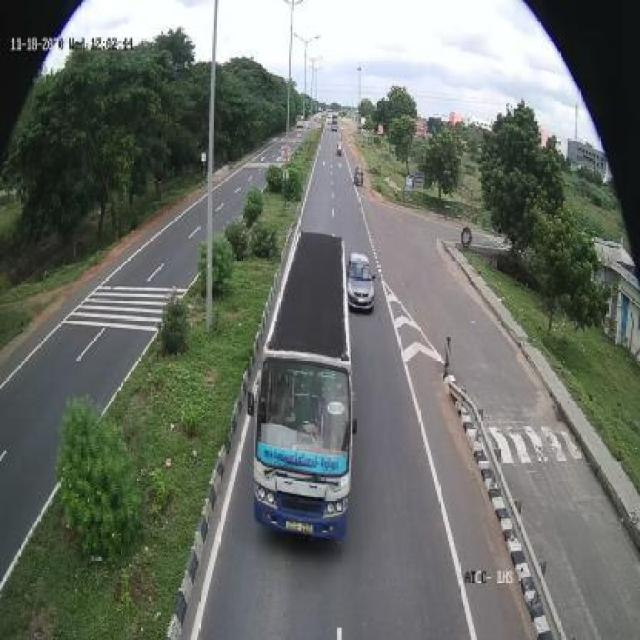car: (346, 248, 379, 318)
